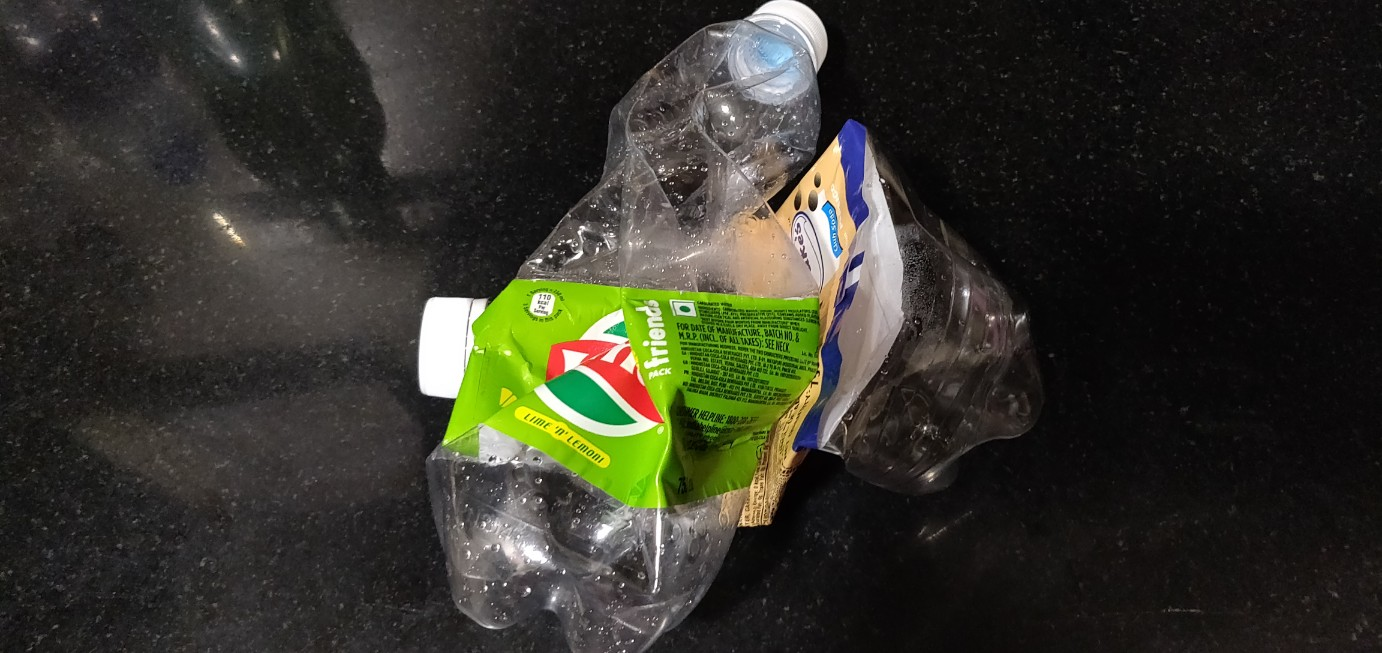Electronics: (392, 1, 902, 649)
